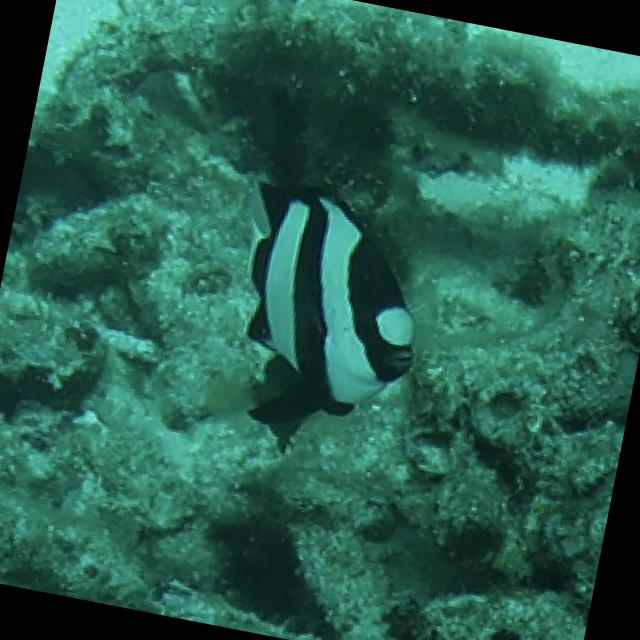Three_striped DasmselFish: (207, 168, 443, 474)
